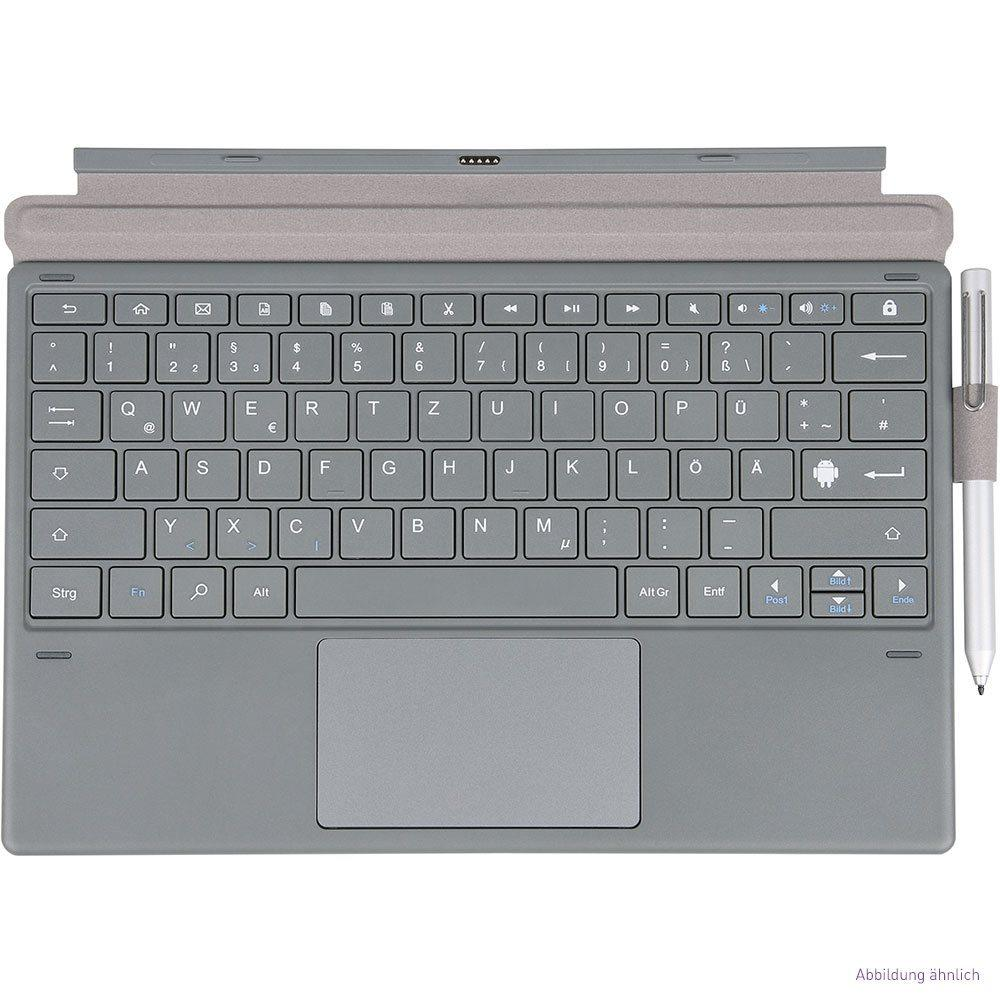0: (642, 326, 699, 381)
1: (89, 326, 146, 380)
2: (150, 326, 208, 381)
3: (211, 327, 269, 381)
4: (274, 327, 330, 381)
5: (335, 327, 392, 381)
6: (396, 327, 454, 381)
7: (458, 327, 515, 382)
8: (519, 326, 576, 381)
9: (581, 326, 637, 381)
a: (119, 444, 176, 498)
accent: (766, 325, 822, 380)
ae: (734, 443, 791, 498)
alt-left: (228, 561, 286, 616)
altgr-right: (621, 561, 678, 616)
b: (394, 501, 454, 557)
c: (272, 502, 330, 557)
caret: (27, 326, 83, 380)
comma: (580, 501, 637, 556)
d: (242, 443, 298, 498)
del: (827, 326, 925, 381)
e: (228, 385, 285, 440)
enter: (795, 443, 926, 498)
f: (304, 443, 360, 498)
g: (365, 444, 421, 498)
h: (426, 444, 482, 498)
hash: (844, 384, 926, 439)
i: (535, 385, 591, 438)
j: (489, 443, 544, 498)
k: (550, 443, 606, 498)
keyboard: (8, 266, 947, 638)
l: (611, 444, 668, 497)
m: (517, 501, 577, 557)
minus: (704, 502, 762, 556)
n: (457, 502, 514, 556)
o: (597, 385, 653, 438)
oe: (672, 444, 729, 498)
p: (658, 385, 715, 438)
plus: (782, 384, 839, 438)
point: (642, 502, 700, 556)
q: (104, 385, 162, 440)
r: (290, 385, 346, 439)
s: (180, 444, 238, 498)
shift-left: (25, 501, 144, 557)
shift-lock: (26, 444, 114, 498)
shift-right: (765, 501, 927, 556)
space: (289, 560, 614, 616)
ss: (702, 326, 761, 381)
strg-left: (23, 561, 102, 617)
t: (352, 385, 406, 439)
tab: (26, 384, 100, 440)
u: (474, 385, 530, 439)
ue: (719, 384, 777, 439)
v: (334, 501, 391, 557)
w: (166, 385, 223, 439)
x: (211, 502, 269, 557)
y: (149, 502, 207, 557)
z: (413, 385, 469, 439)
